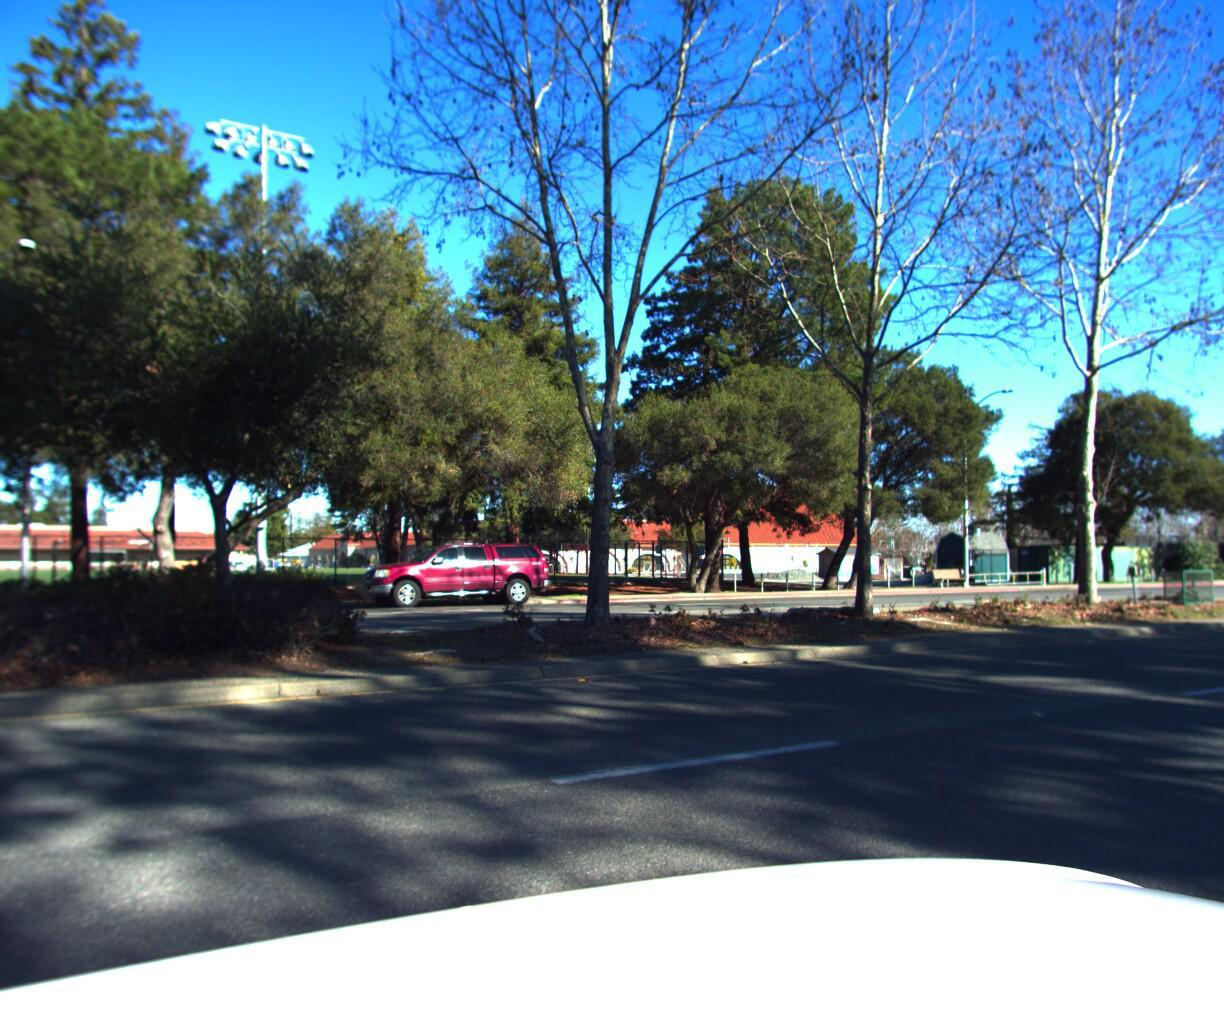car: (354, 536, 556, 608)
